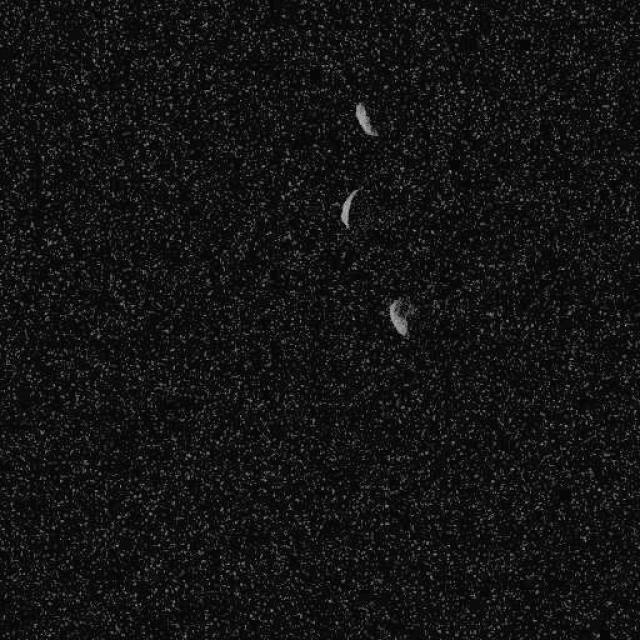D2: (386, 295, 414, 337), (352, 100, 378, 138), (339, 186, 360, 229)
